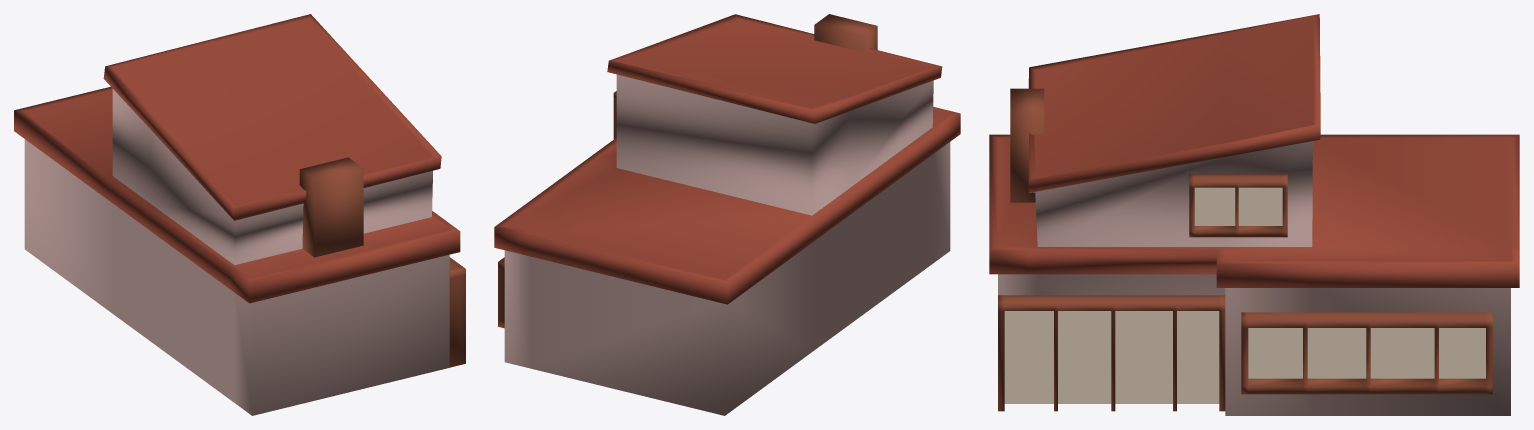
The model's file is Maison2.fbx.
3 views of the same model, side by side, from view 1: azimuth 30°, elevation 25°; view 2: azimuth 150°, elevation 25°; view 3: azimuth 270°, elevation 25° (orthographic). The views are drawn at different scales.
Parts seen in each view (by area): view 1: Maison2; view 2: Maison2; view 3: Maison2.
Part boxes in pixels (x1,y1,x2,y2): Maison2: [14, 14, 465, 415]; Maison2: [494, 14, 960, 415]; Maison2: [989, 14, 1519, 415].
Bounding box in the file's own units: 1342 × 1305 × 2245.
